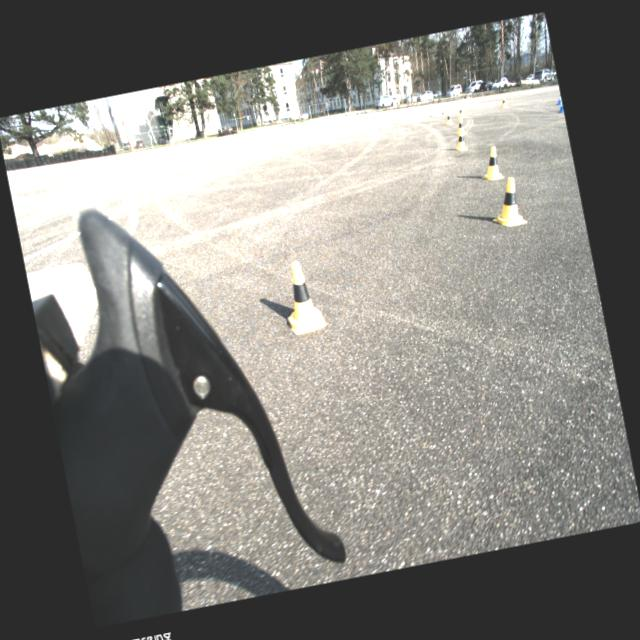blue_cone: (556, 102, 564, 114), (555, 94, 562, 105)
yellow_cone: (278, 258, 328, 337), (486, 176, 528, 229), (476, 145, 504, 182), (452, 128, 468, 152), (454, 117, 467, 136), (444, 111, 454, 126), (457, 106, 465, 118), (500, 96, 508, 108)
